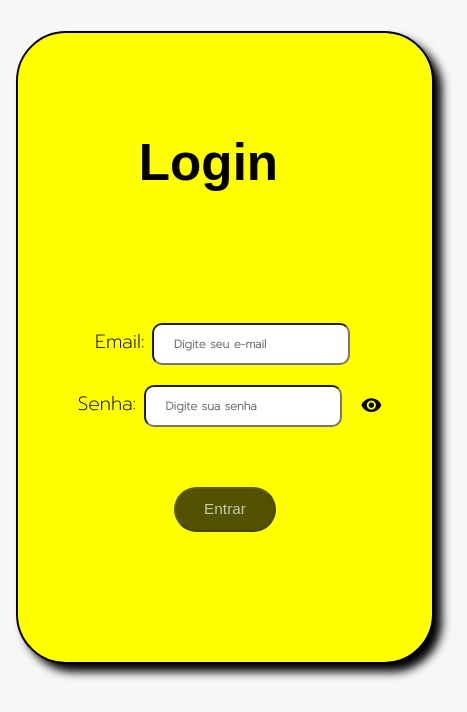
Scenario: Verifica funcionalidades da tela de login › Verifica se o input recebendo valores que não são email retorna erro
In the field labelled "Email:": (251, 344) [152, 322, 350, 364], type "teste"
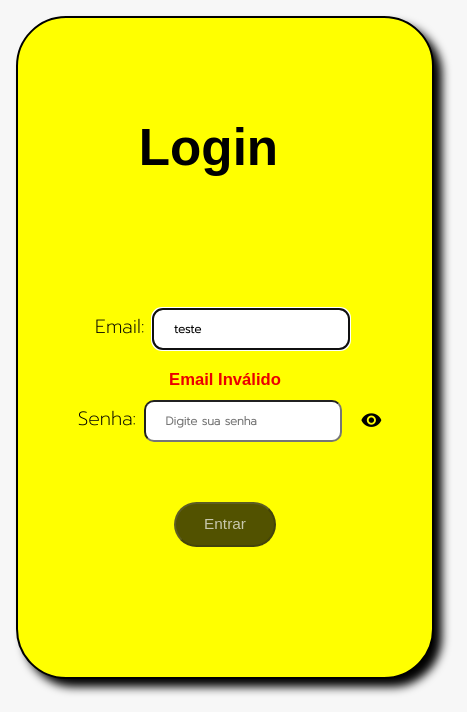
Expected: the text "Email Inválido" is shown, [169, 370, 281, 390]
